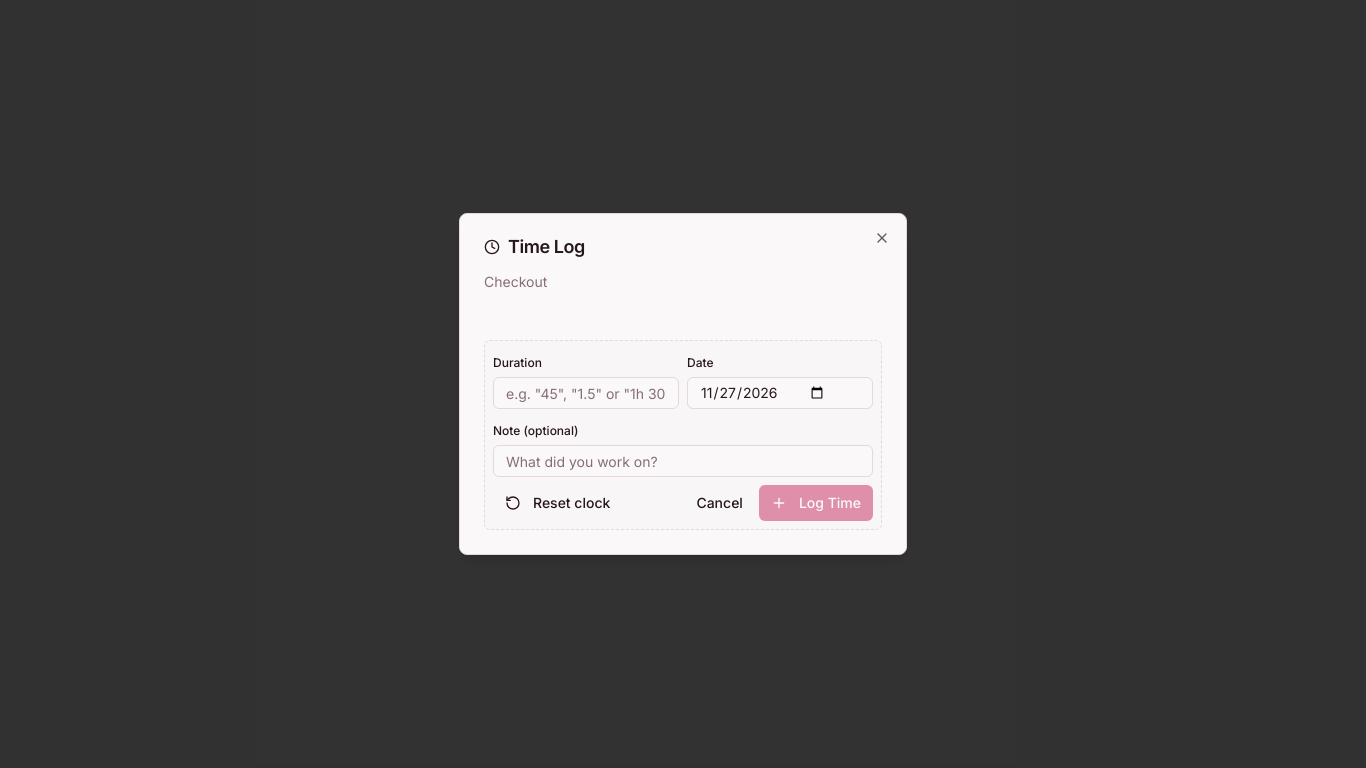
Test: the duration field › says how it read the input before anything is saved
Type "45" into the field with placeholder "e.g. \"45\", \"1.5\" or \"1h 30m\"".
click(586, 393); type("45")  # box left=493, top=377, right=679, bottom=409
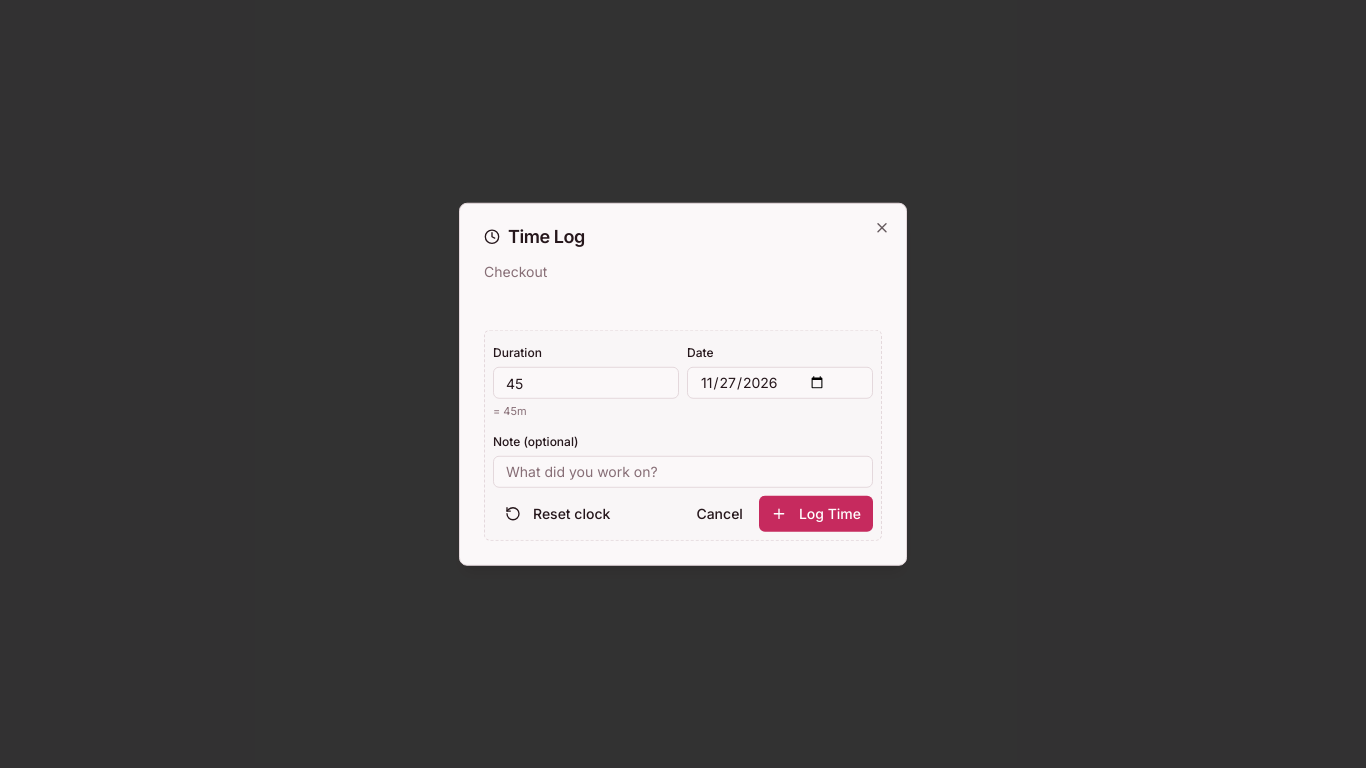
Result: the text "= 45m" is shown at left=493, top=404, right=527, bottom=418
Replace the text in the field with placeholder "e.g. \"45\", \"1.5\" or \"1h 30m\"" with "1,5" at {"x": 586, "y": 383}, box left=493, top=367, right=679, bottom=399
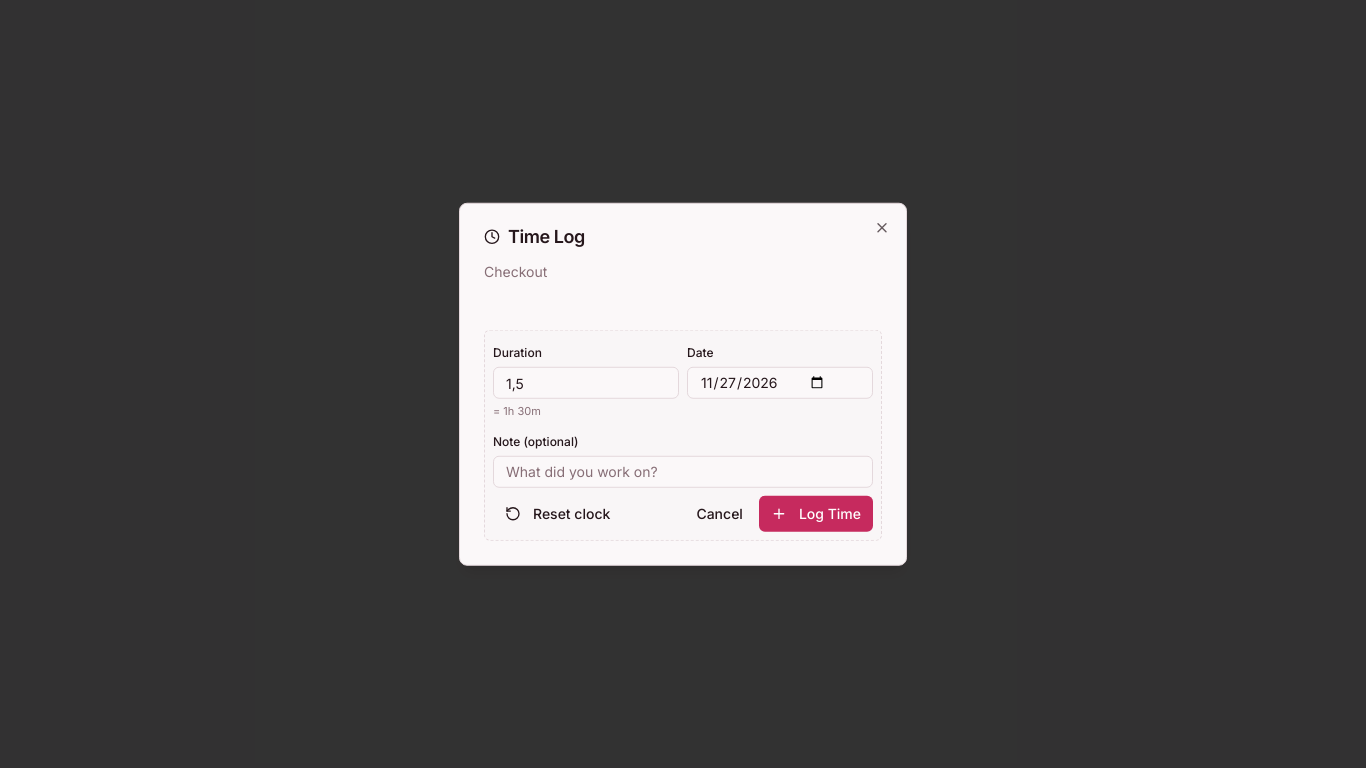
Result: the text "= 1h 30m" is shown at left=493, top=404, right=541, bottom=418
Replace the text in the field with placeholder "e.g. \"45\", \"1.5\" or \"1h 30m\"" with "lunch" at {"x": 586, "y": 383}, box left=493, top=367, right=679, bottom=399
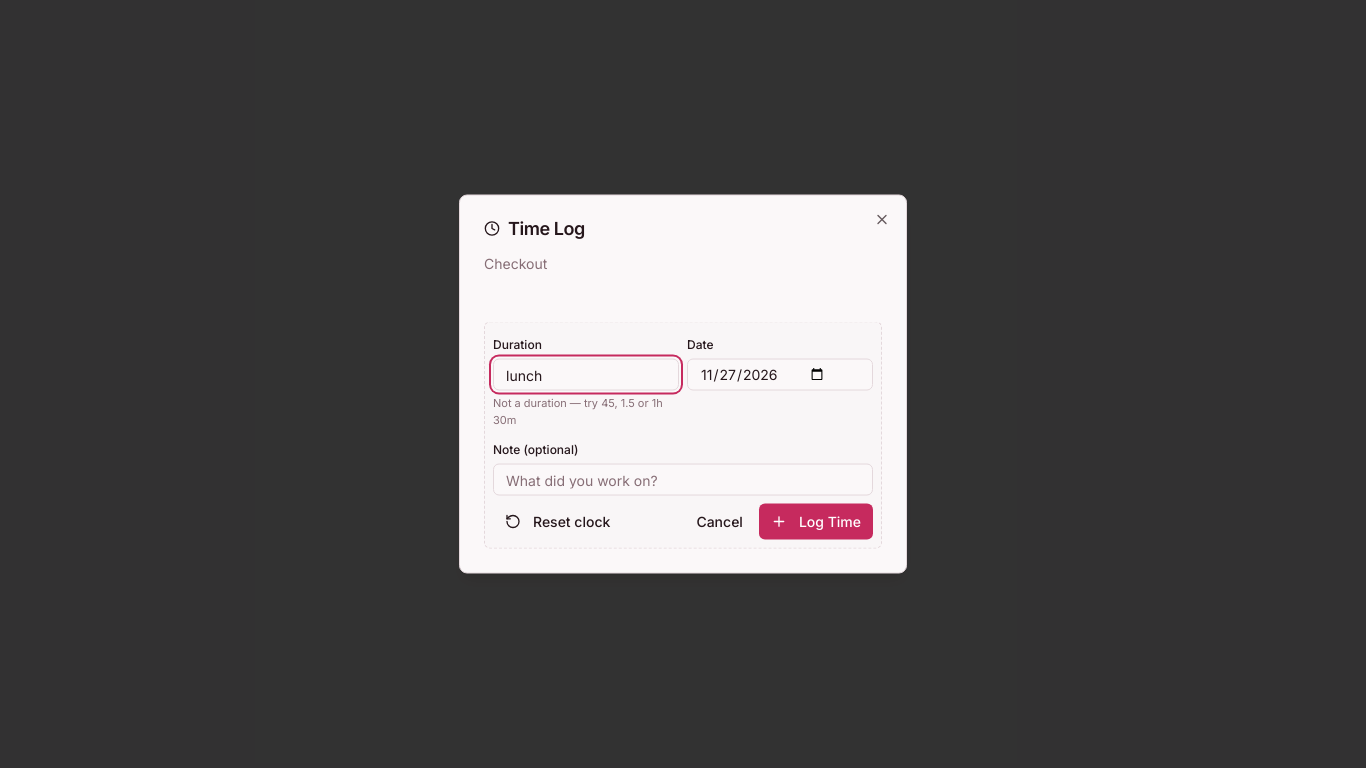
Result: the text "Not a duration — try 45, 1.5 or 1h 30m" is shown at left=493, top=394, right=679, bottom=428
